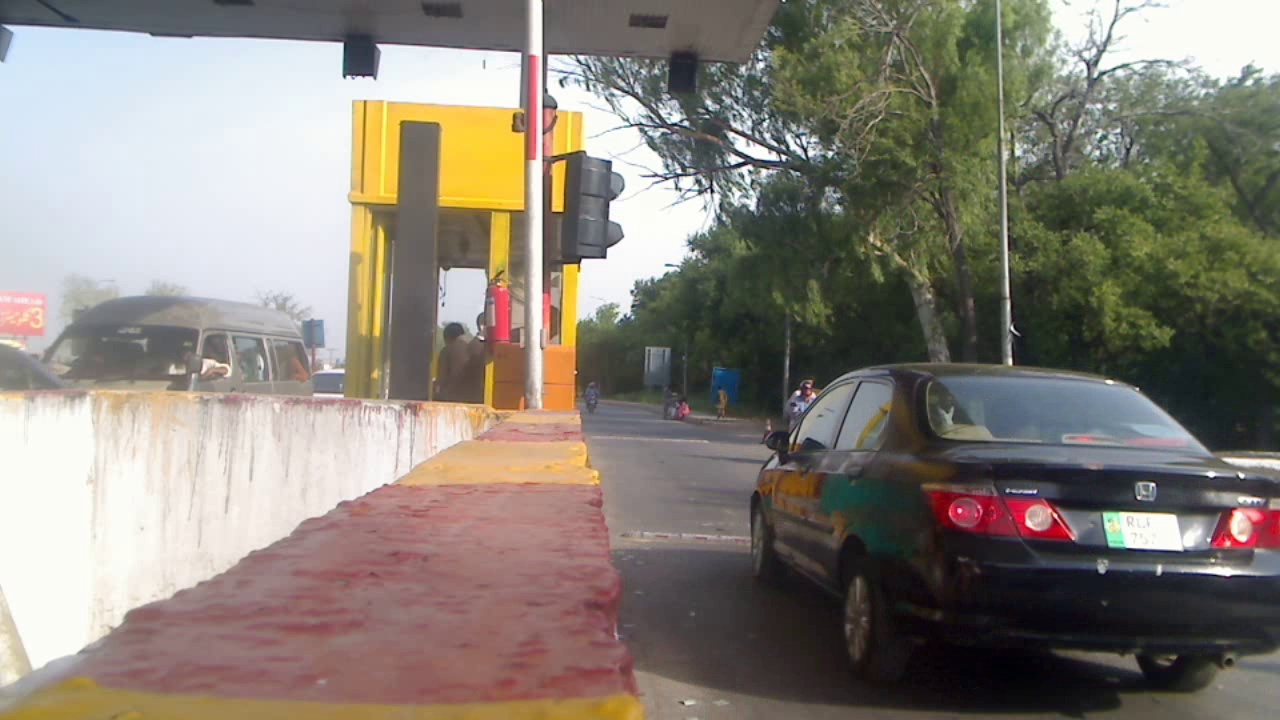Number Plate (Car): (1104, 511, 1180, 545)
